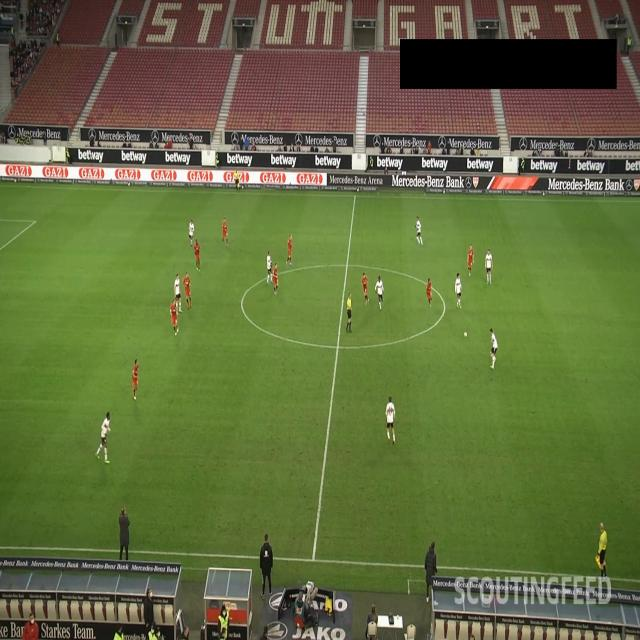ball: (463, 322, 469, 348)
f_player: (98, 412, 114, 464), (130, 354, 142, 402), (384, 398, 396, 445), (170, 294, 182, 336), (182, 274, 194, 310), (488, 329, 498, 369), (264, 247, 274, 286), (453, 276, 463, 312), (272, 258, 280, 302), (483, 250, 493, 285), (375, 277, 385, 311), (414, 216, 424, 248), (221, 218, 231, 246), (362, 274, 371, 304), (468, 248, 477, 278), (194, 236, 202, 269), (287, 234, 295, 264), (424, 280, 433, 306), (188, 220, 194, 246)
umpire: (597, 522, 610, 578), (344, 293, 356, 339), (232, 170, 242, 198)
